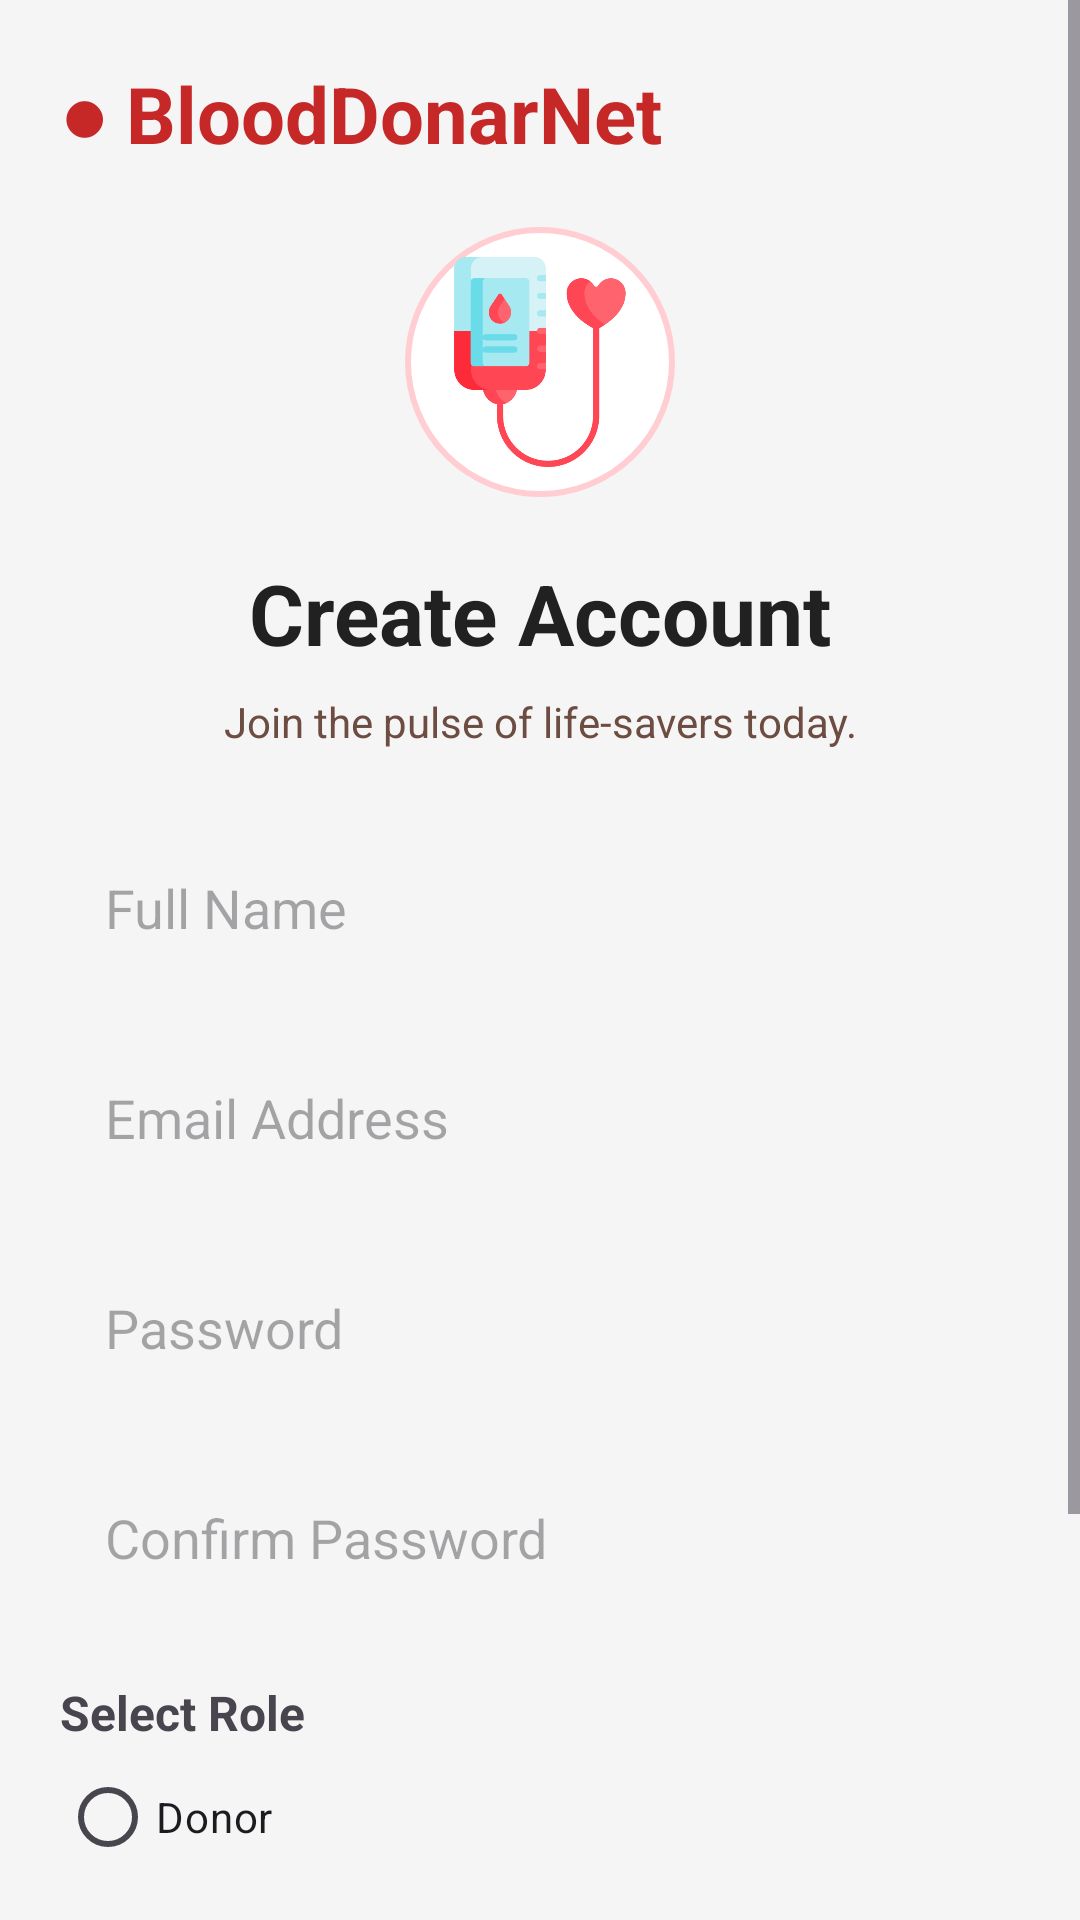

Screen size 1080x1920. Icon name, then its center in pixels as [x,y]:
blood drop: [540,362]
